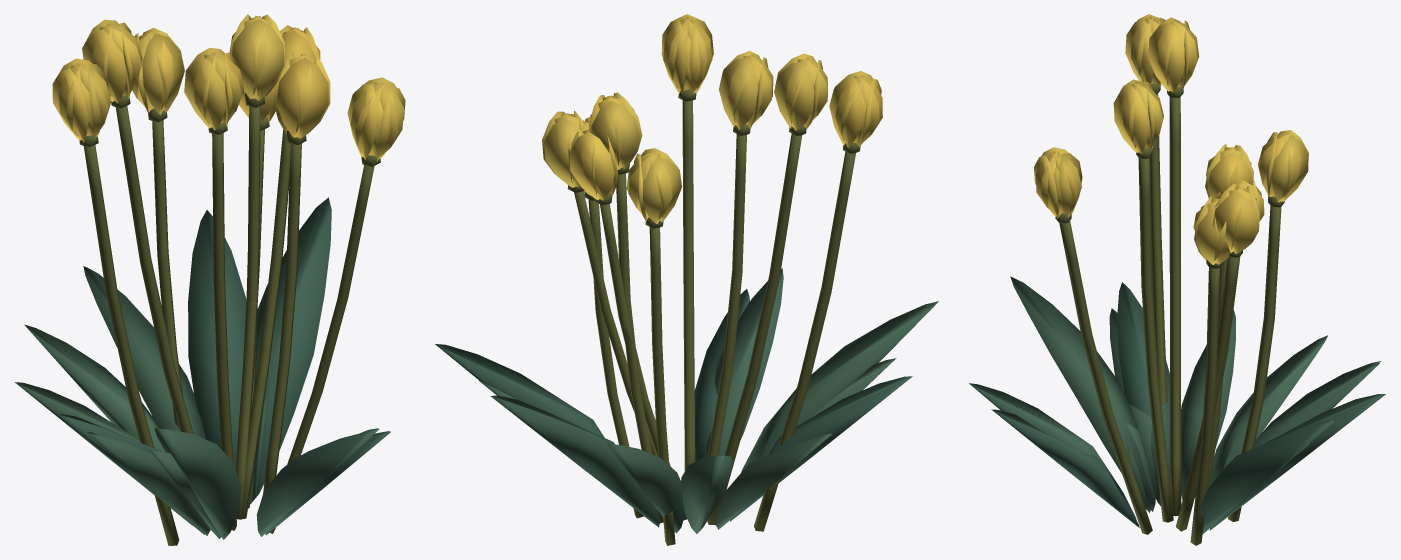
Rendered from potfill_tulips_yellow.glb.
3 renders of one model, left to right at view 1: azimuth 30°, elevation 25°; view 2: azimuth 150°, elevation 25°; view 3: azimuth 270°, elevation 25°, orthographic. The views are drawn at different scales.
Visible parts, largest first — view 1: Sammel Pflanze, Sammel Putz; view 2: Sammel Pflanze, Sammel Putz; view 3: Sammel Pflanze, Sammel Putz.
Boxes of the visible parts, x1,y1,x2,y2 form: Sammel Pflanze: (15, 14, 405, 539); Sammel Putz: (79, 93, 380, 545); Sammel Pflanze: (435, 14, 938, 533); Sammel Putz: (567, 89, 860, 545); Sammel Pflanze: (969, 14, 1385, 533); Sammel Putz: (1055, 83, 1284, 545).
Size of the model in its own units: 0.3151 by 0.405 by 0.3378.
